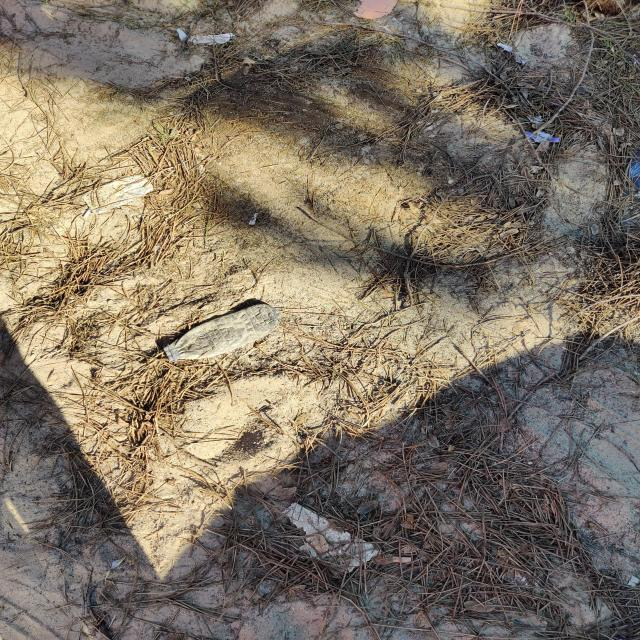litter: (151, 295, 291, 374)
